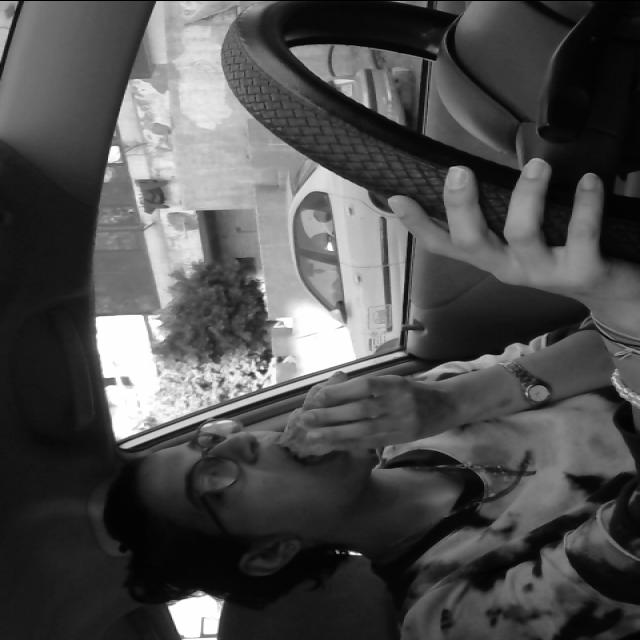eating: (264, 364, 364, 462)
